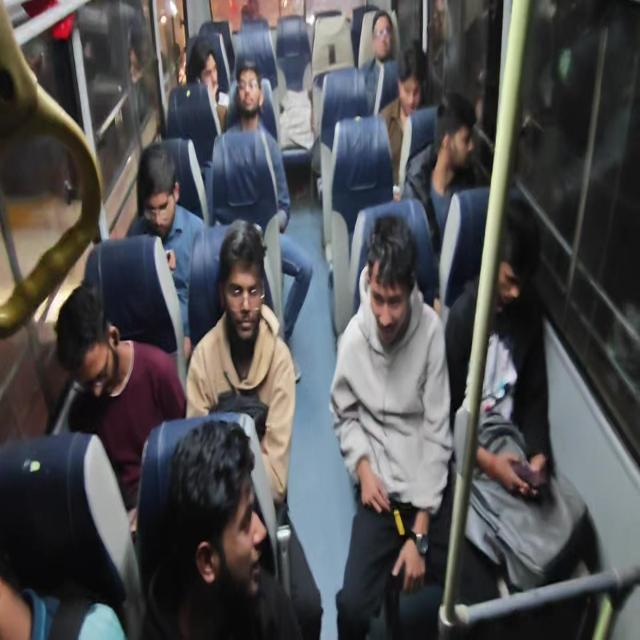person: (122, 430, 289, 618), (0, 420, 85, 639), (55, 280, 138, 435), (475, 236, 547, 347), (356, 228, 421, 338), (218, 240, 270, 372), (439, 102, 492, 188), (367, 8, 420, 92), (270, 53, 314, 149), (185, 38, 237, 102), (134, 143, 172, 218), (231, 56, 270, 122), (400, 55, 434, 120)
